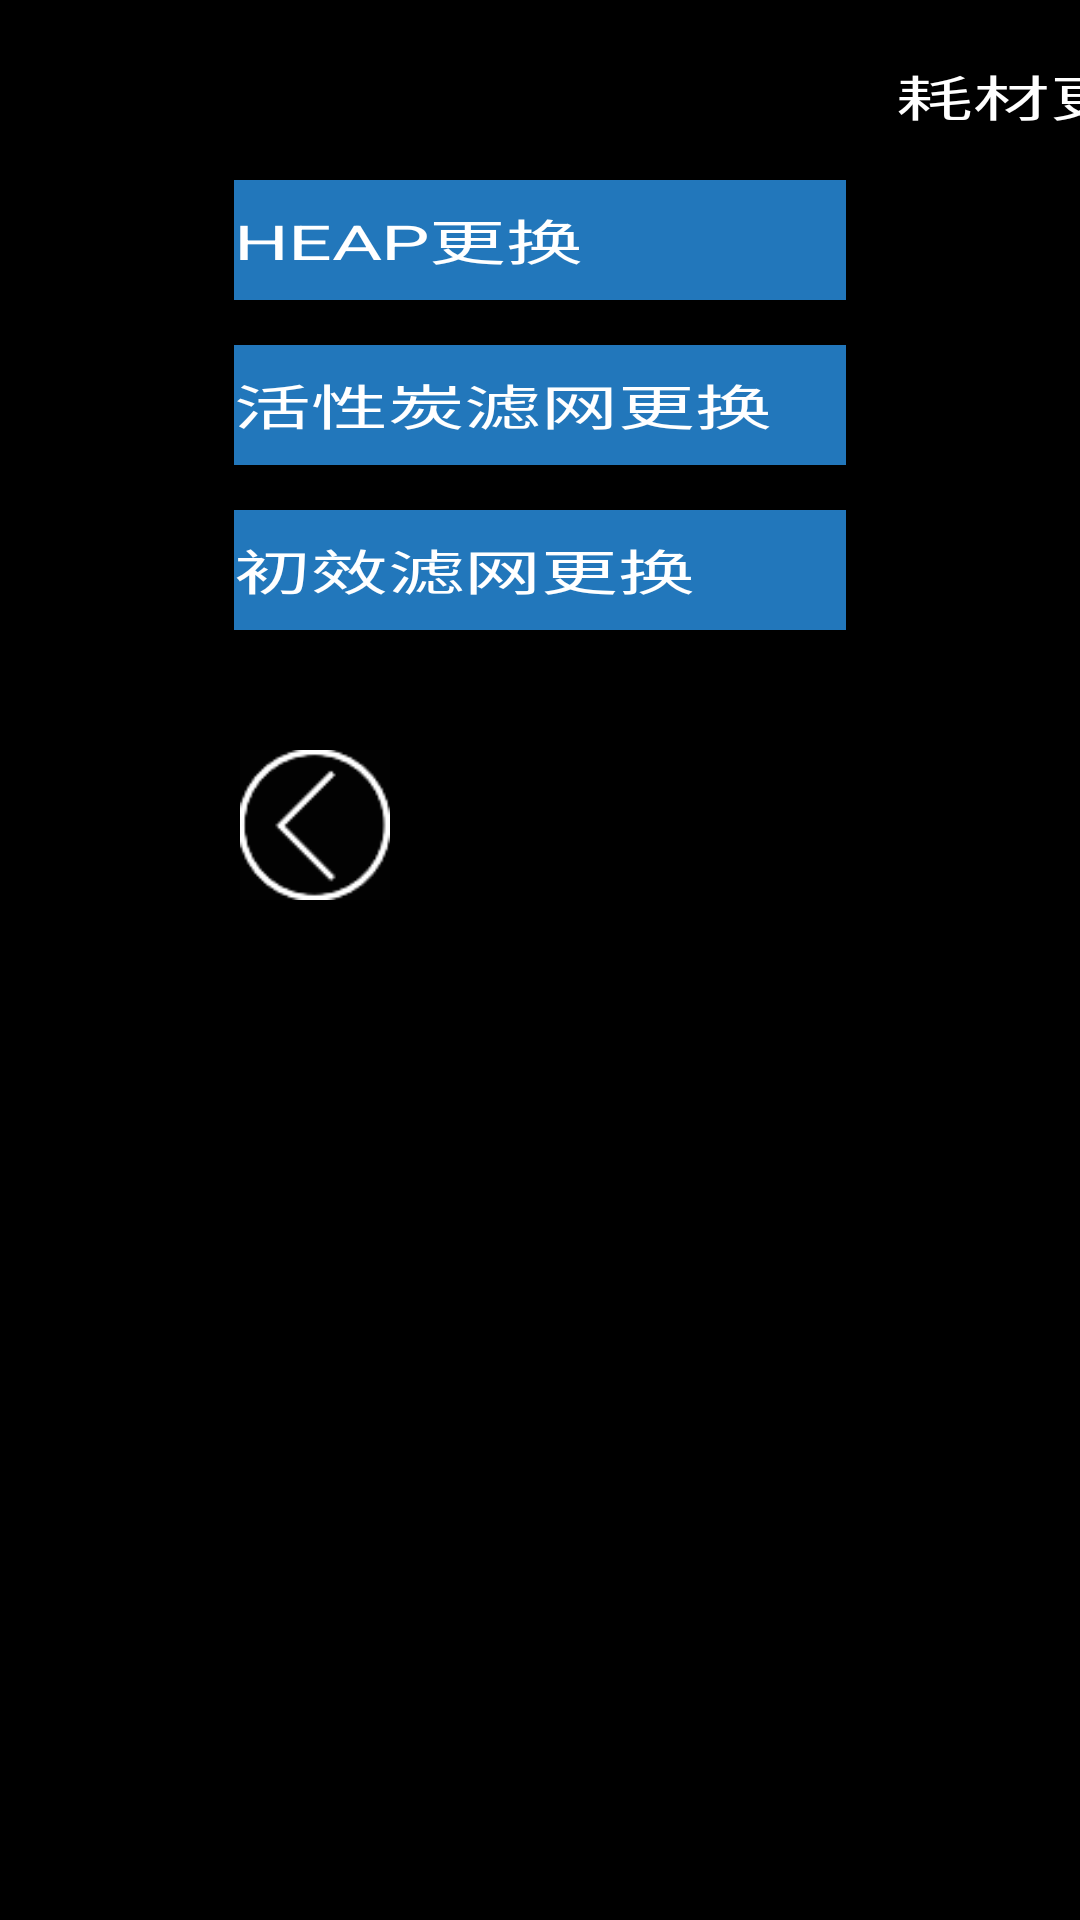

Point at icon controls on the screen. Image size 1080px×1920px, points as point (x, y).
backward: point (315, 825)
